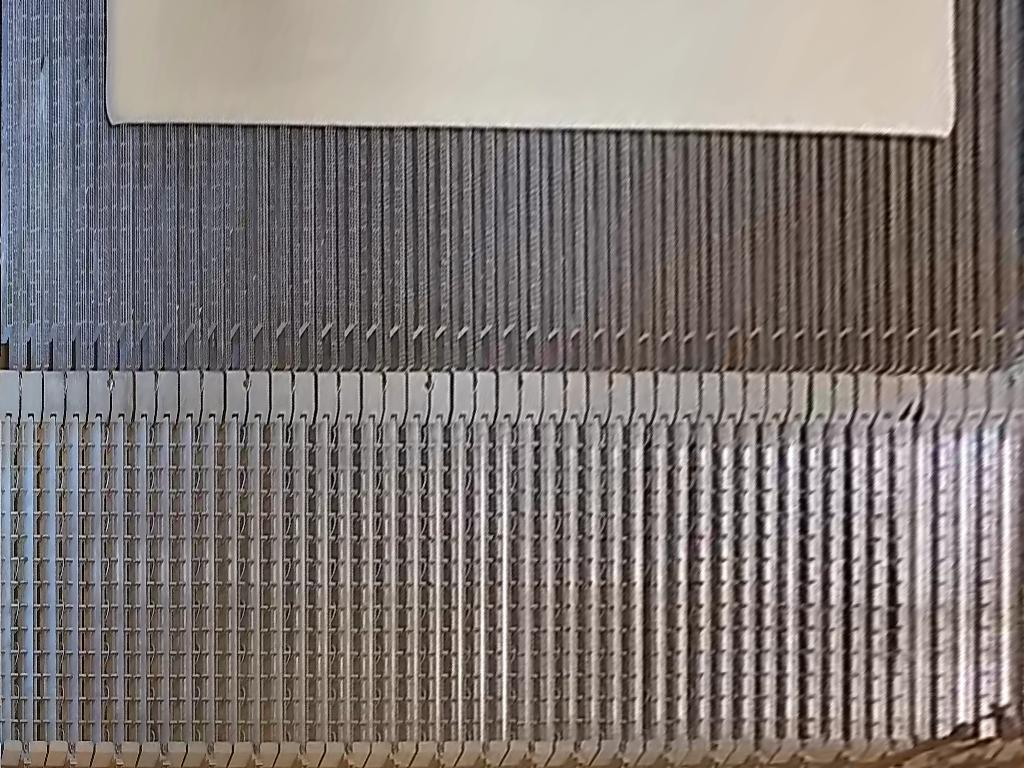steel: (104, 1, 960, 138)
